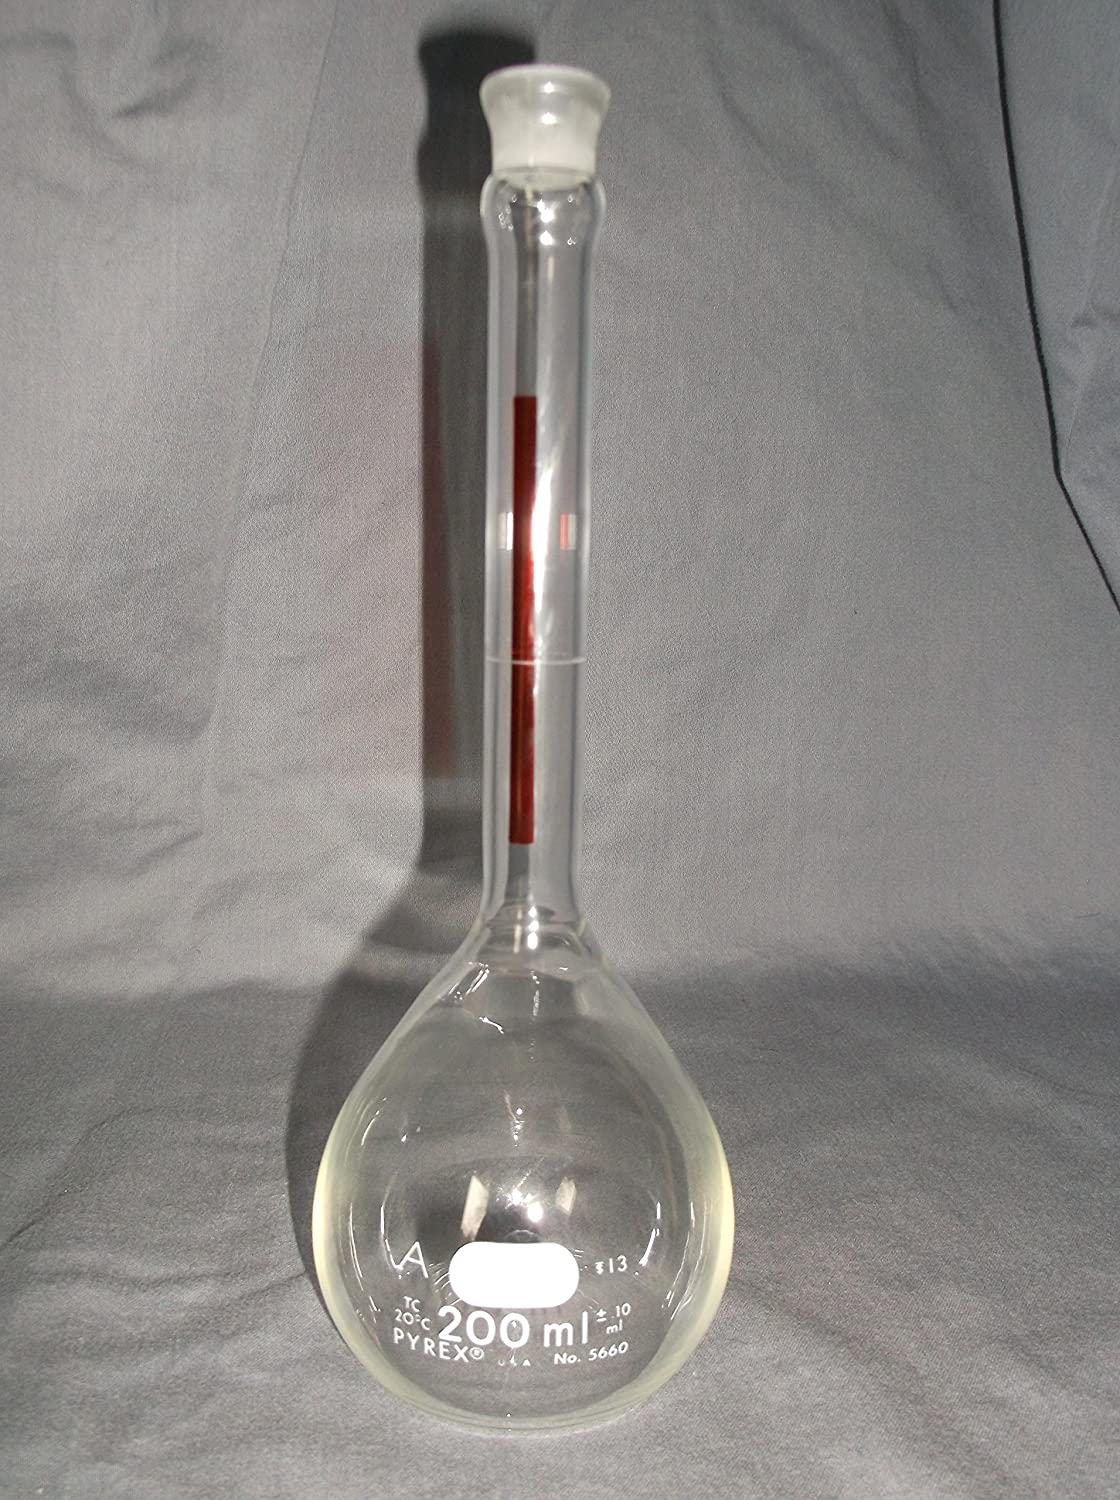Volumetric flask: (298, 60, 744, 1458)
